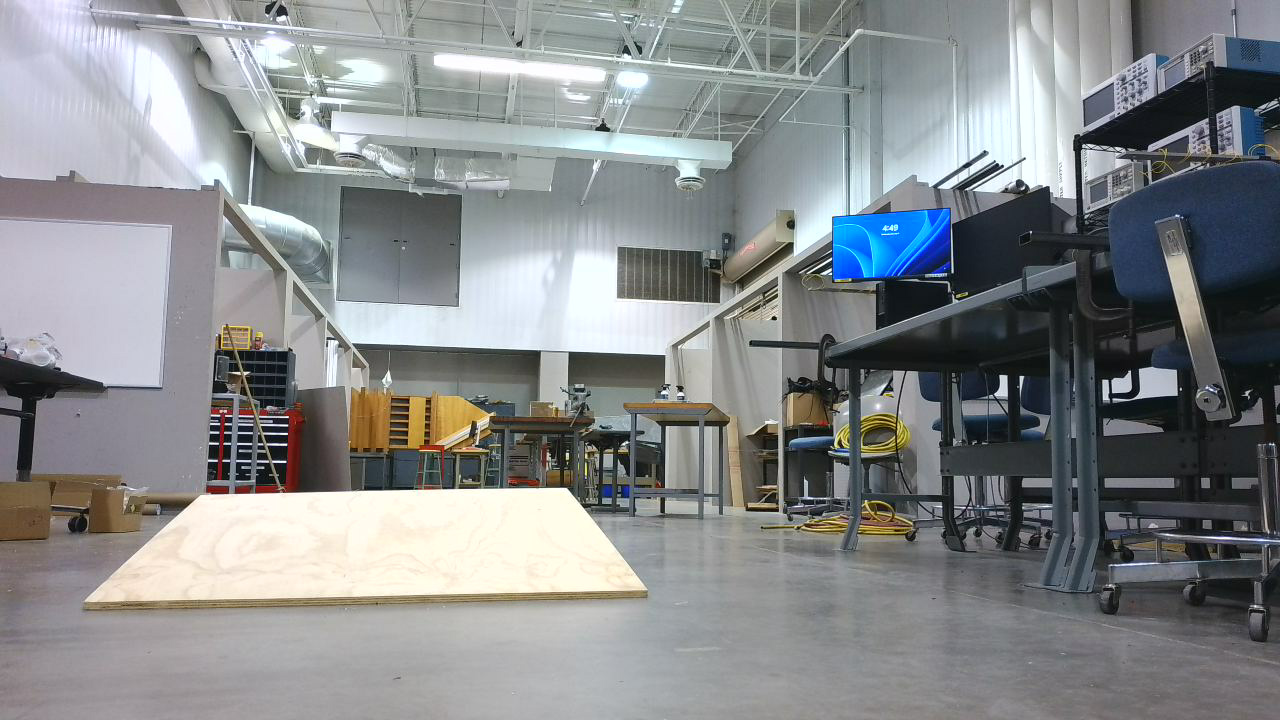ramp: (82, 486, 658, 621)
